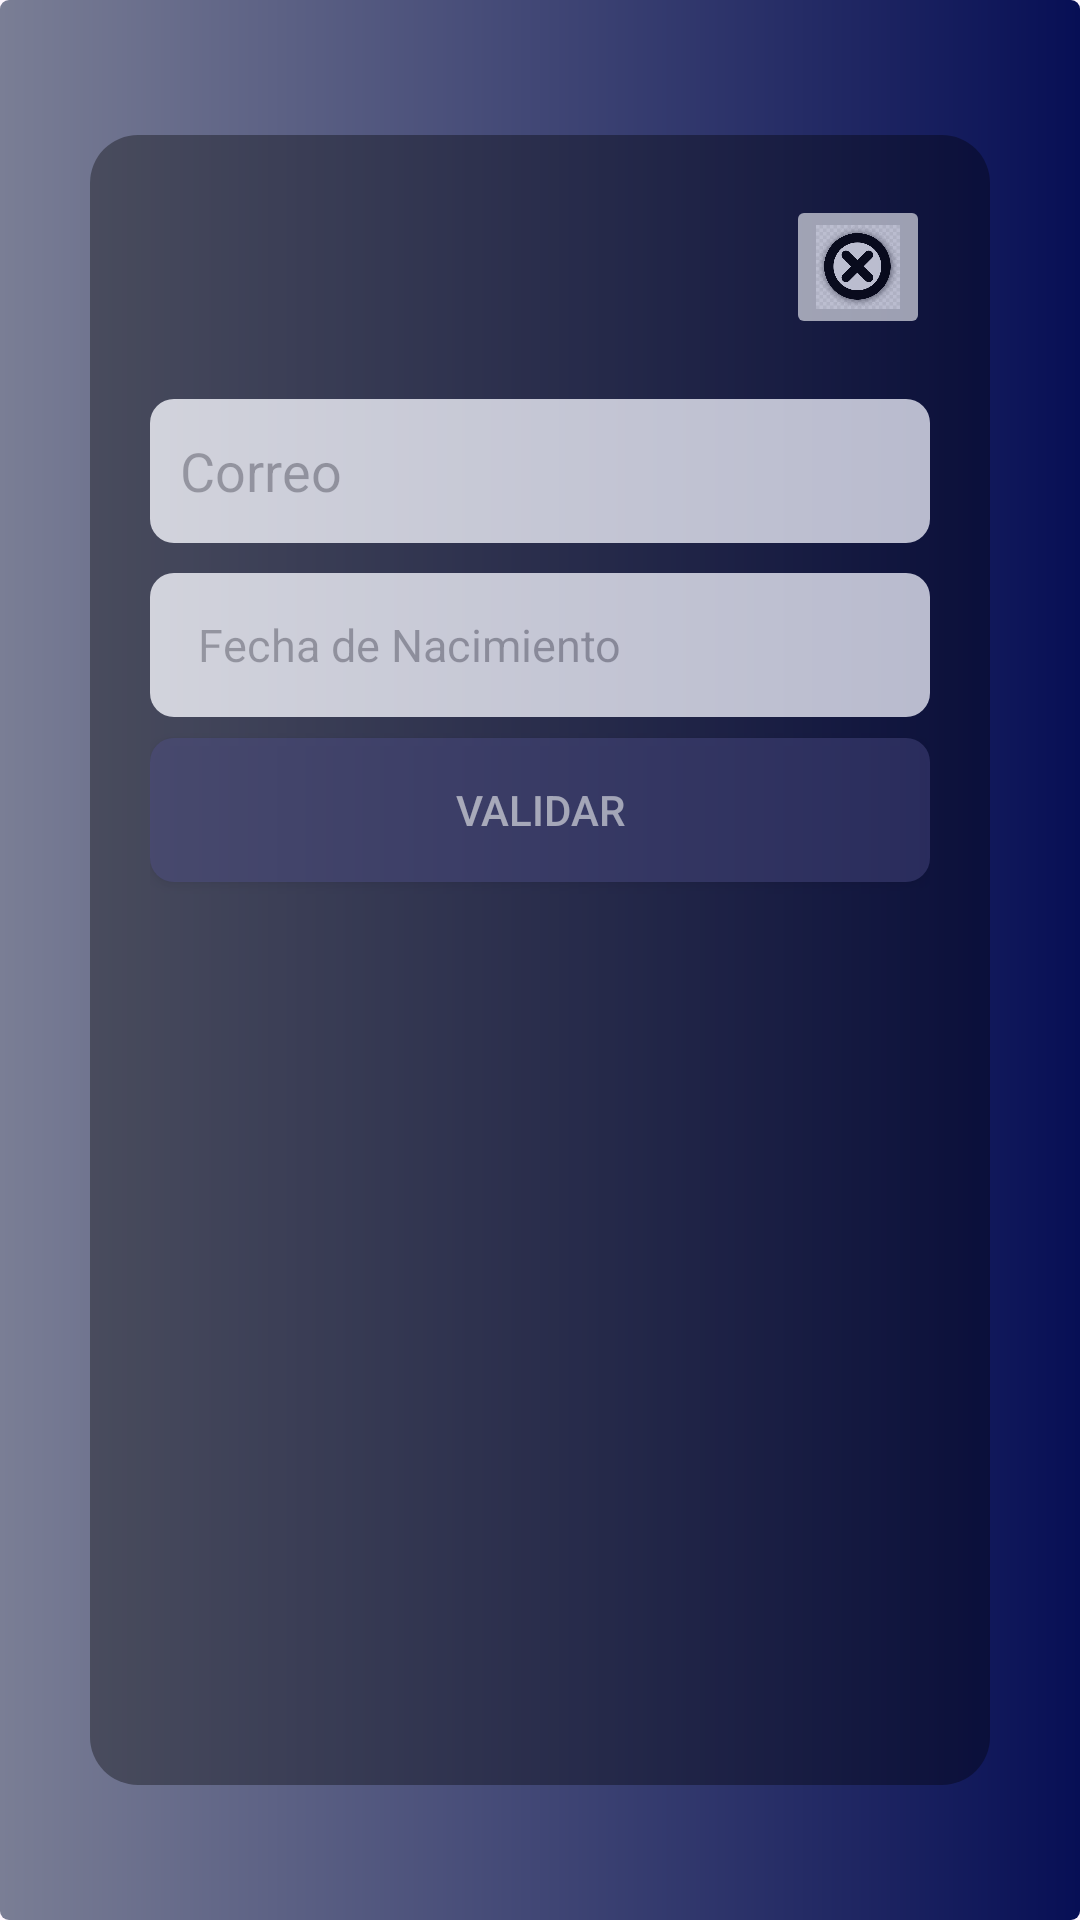

Icon click points for this 1080*1920 phone screenshot, format (x=x, y=y):
cerar: (x=858, y=267)
